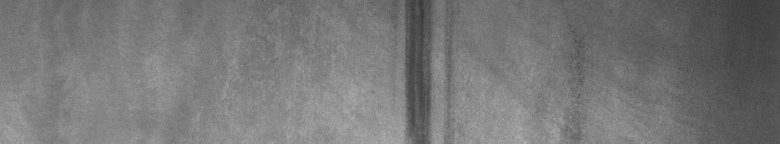ka: (399, 4, 451, 136)
